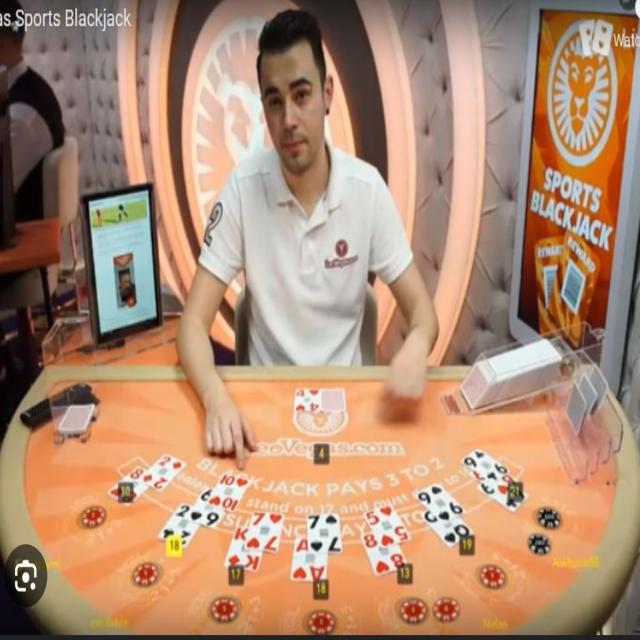Card-10: (208, 473, 251, 510)
Card-2: (160, 501, 199, 548), (141, 453, 185, 491)
Card-4: (294, 388, 322, 410)
Card-5: (364, 502, 411, 548)
Card-6: (188, 486, 225, 529), (478, 482, 529, 512), (471, 470, 519, 496)
Card-7: (248, 511, 283, 553), (308, 514, 341, 551)
Card-8: (362, 533, 407, 576), (108, 466, 150, 506)
Card-9: (415, 482, 465, 522), (463, 448, 509, 485)
Card-A: (291, 538, 327, 582)
Card-K: (225, 525, 261, 571)
Card-Q: (421, 511, 472, 547)
